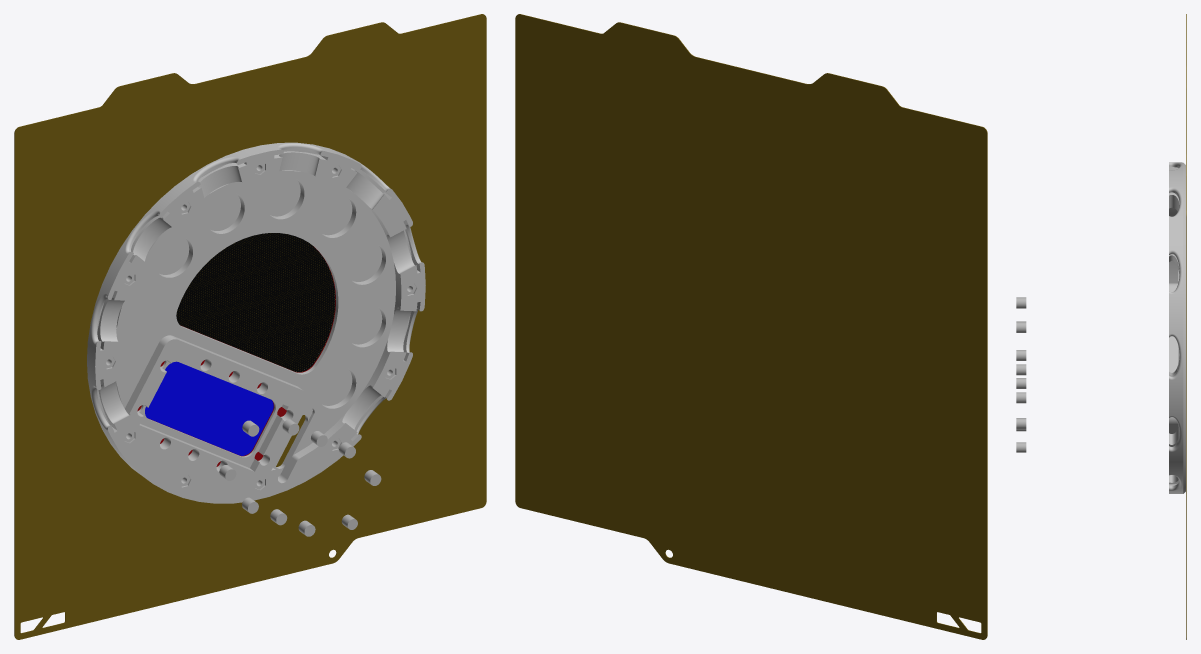
File: BottomHousing_3rdPause_Compressed.glb
The picture shows the model from 3 angles, left to right: view 1: azimuth 30°, elevation 25°; view 2: azimuth 150°, elevation 25°; view 3: azimuth 270°, elevation 25°; orthographic projection. The views are drawn at different scales.
Visible parts, largest first — view 1: BuildPlate, Housing_bottom, Mesh_back, Battery_printHelp; view 2: BuildPlate; view 3: Housing_bottom, BuildPlate.
Boxes of the visible parts, x1=… form: BuildPlate: x1=14, y1=14, x2=486, y2=639; Housing_bottom: x1=87, y1=142, x2=425, y2=503; Mesh_back: x1=176, y1=233, x2=335, y2=372; Battery_printHelp: x1=145, y1=361, x2=273, y2=455; BuildPlate: x1=515, y1=14, x2=987, y2=639; Housing_bottom: x1=1169, y1=162, x2=1185, y2=493; BuildPlate: x1=1186, y1=14, x2=1186, y2=639.
Bounding box in the file's own units: 0.184 × 0.1971 × 0.0663.
